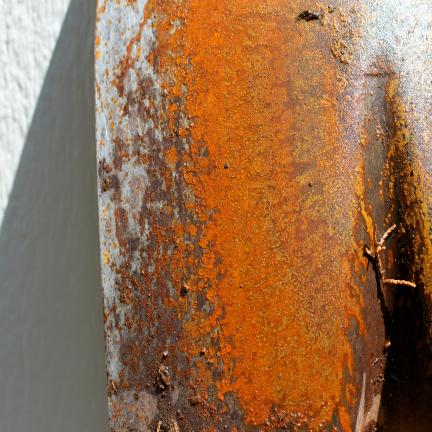karat: (163, 7, 358, 419), (361, 9, 432, 288)
